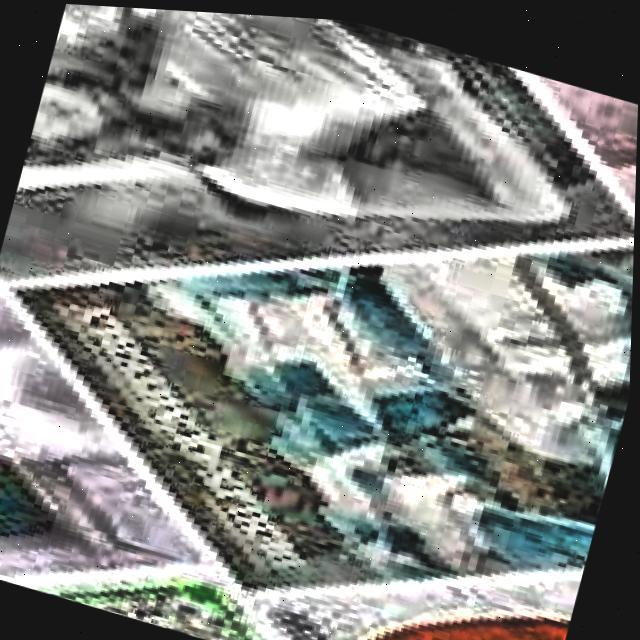paper: (0, 69, 638, 640), (0, 0, 640, 442), (0, 260, 260, 632), (237, 393, 609, 640), (379, 36, 640, 321)
